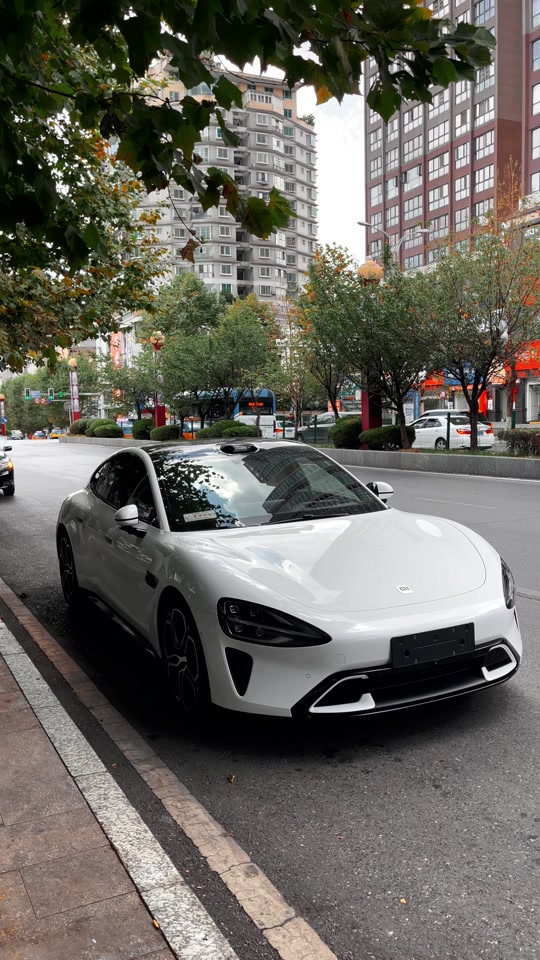other: (410, 414, 495, 455)
su7: (48, 429, 529, 724)
